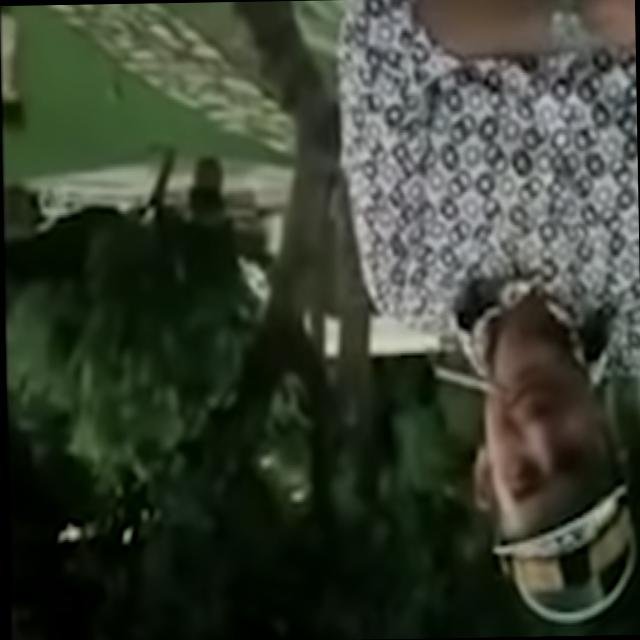smoke: (400, 346, 509, 408)
